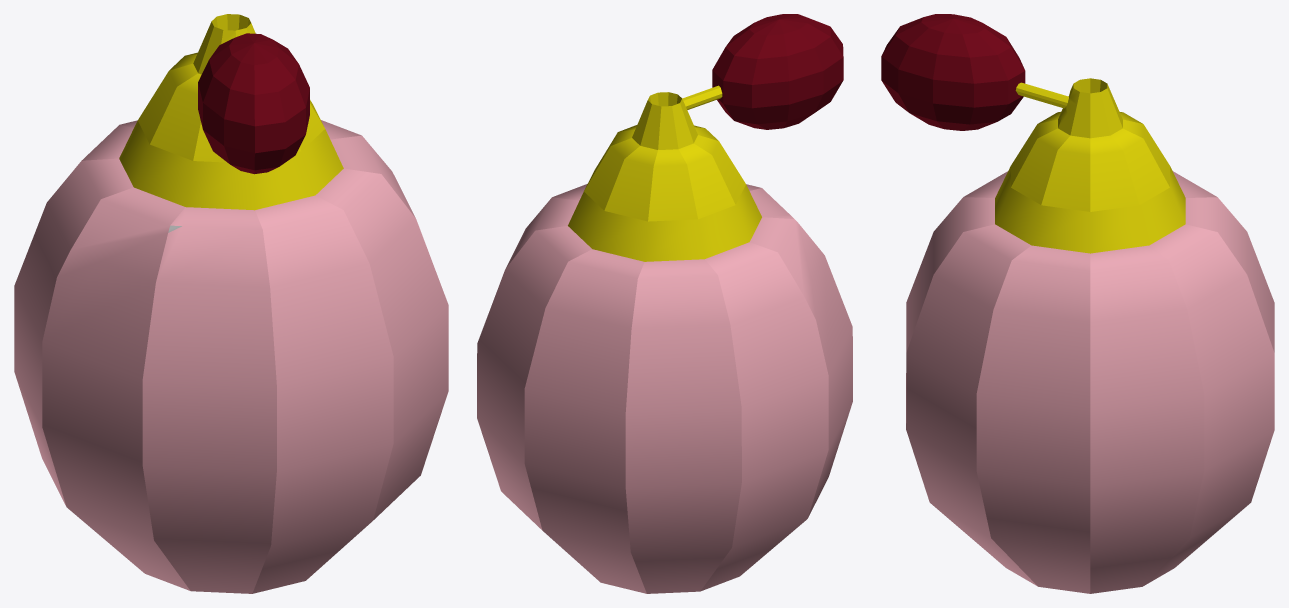
The model's file is Perfume_red.fbx.
3 views of the same model, side by side, from view 1: azimuth 30°, elevation 25°; view 2: azimuth 150°, elevation 25°; view 3: azimuth 270°, elevation 25° (orthographic). The views are drawn at different scales.
Parts seen in each view (by area): view 1: pSphere7; view 2: pSphere7; view 3: pSphere7.
Part boxes in pixels (x1,y1,x2,y2): pSphere7: [14, 14, 448, 593]; pSphere7: [477, 14, 852, 593]; pSphere7: [881, 14, 1274, 593].
Bounding box in the file's own units: 0.871 × 1.27 × 0.8843.
